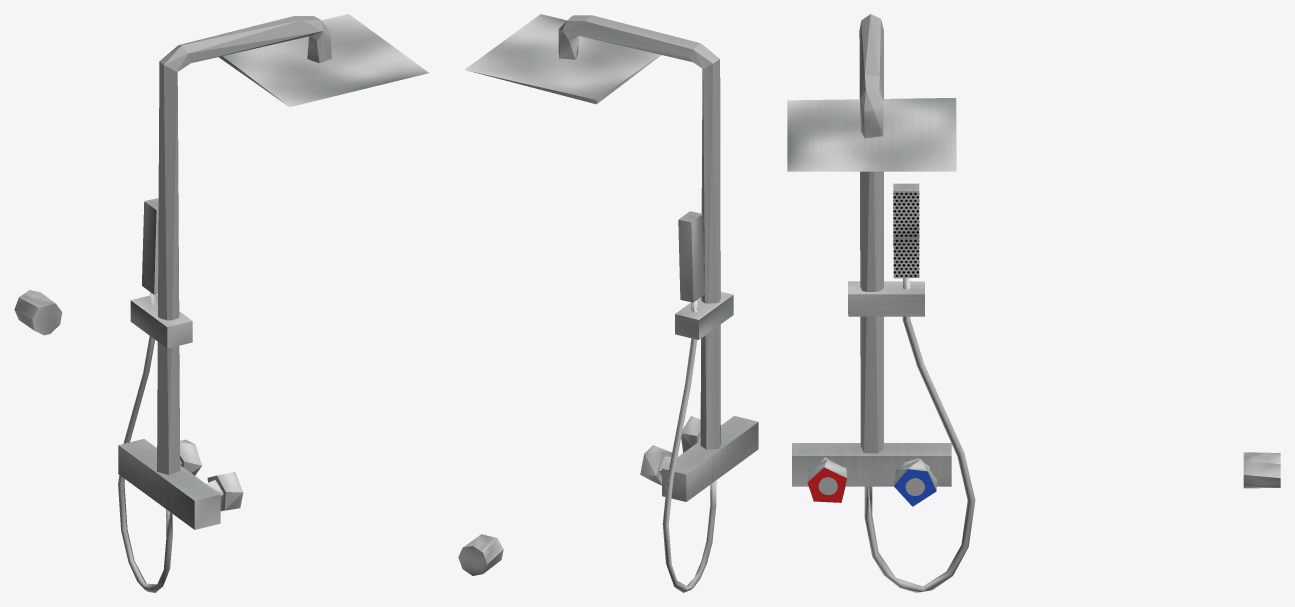
Rendered from int_112.fbx.
3 views of the same model, side by side, from view 1: azimuth 30°, elevation 25°; view 2: azimuth 150°, elevation 25°; view 3: azimuth 270°, elevation 25° (orthographic). The views are drawn at different scales.
Parts seen in each view (by area): view 1: regadera; view 2: regadera; view 3: regadera.
Boxes of the visible parts, box(x1,y1,x2,y2) form: regadera: box(14, 14, 428, 592); regadera: box(458, 14, 758, 592); regadera: box(787, 14, 1280, 592).
Size of the model in its own units: 62.26 by 143 by 109.
Materials: 7 (7 with a texture image).
